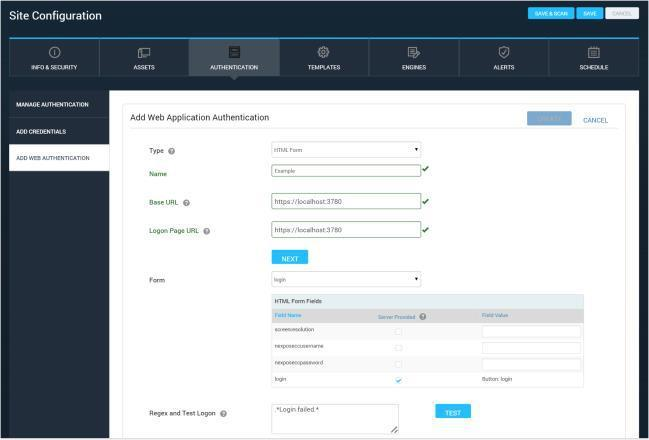button: (531, 8, 577, 21), (528, 113, 573, 126), (437, 404, 472, 419), (273, 251, 309, 265), (606, 7, 639, 22), (576, 8, 605, 20)
checkbox: (395, 378, 405, 386), (395, 329, 403, 337), (396, 345, 404, 353), (396, 361, 403, 370)
dropdown: (272, 142, 422, 159), (272, 272, 422, 288)
icon: (136, 45, 152, 61), (406, 45, 423, 60), (48, 46, 64, 61), (586, 47, 602, 61), (498, 47, 512, 62), (229, 45, 243, 60), (318, 46, 331, 61)
input: (273, 194, 422, 210), (273, 223, 422, 239), (272, 166, 422, 178), (483, 359, 582, 372), (483, 326, 581, 339), (483, 343, 582, 355)
label: (149, 223, 212, 239), (149, 409, 232, 420), (146, 198, 197, 210), (276, 360, 326, 369), (149, 146, 182, 159), (274, 343, 326, 351), (274, 327, 317, 334), (583, 116, 611, 126), (146, 277, 171, 288), (149, 170, 173, 181), (275, 376, 293, 384)
